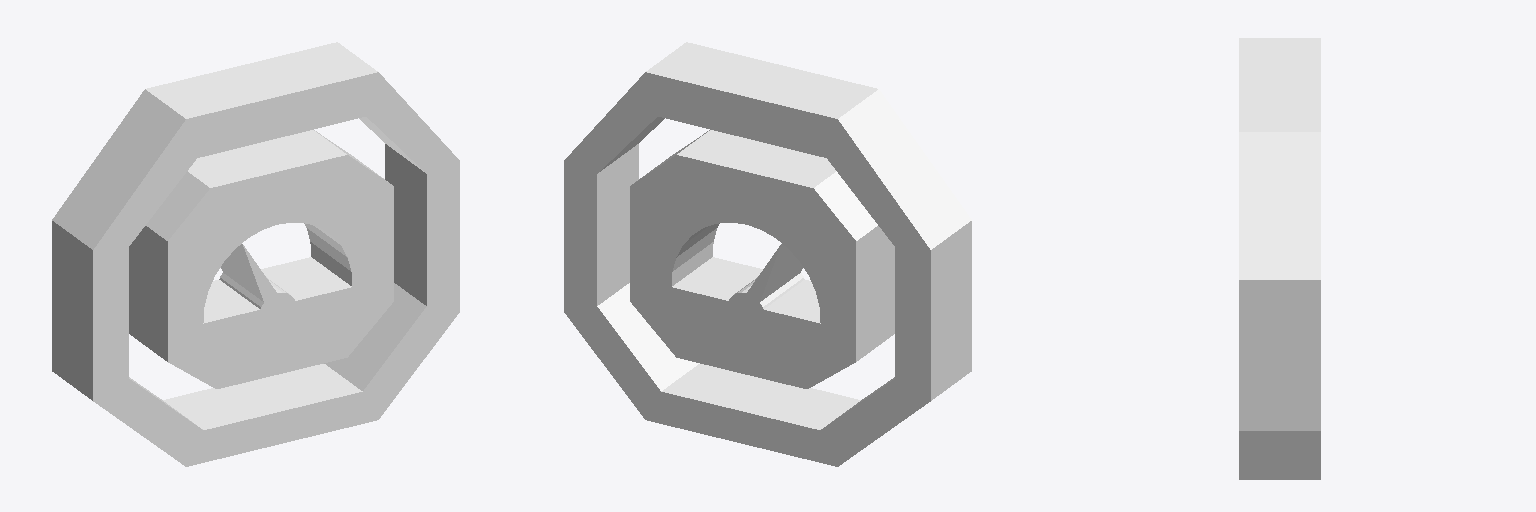
Rendered from BonusSpeed.obj.
3 views of the same model, side by side, from view 1: azimuth 30°, elevation 25°; view 2: azimuth 150°, elevation 25°; view 3: azimuth 270°, elevation 25° (orthographic).
Parts seen in each view (by area): view 1: BonusVitesse; view 2: BonusVitesse; view 3: BonusVitesse.
Boxes of the visible parts, box(x1,y1,x2,y2) form: BonusVitesse: box(52, 42, 459, 466); BonusVitesse: box(564, 42, 971, 466); BonusVitesse: box(1239, 38, 1320, 479).
Bounding box in the file's own units: 0.1774 × 0.1608 × 0.0345.